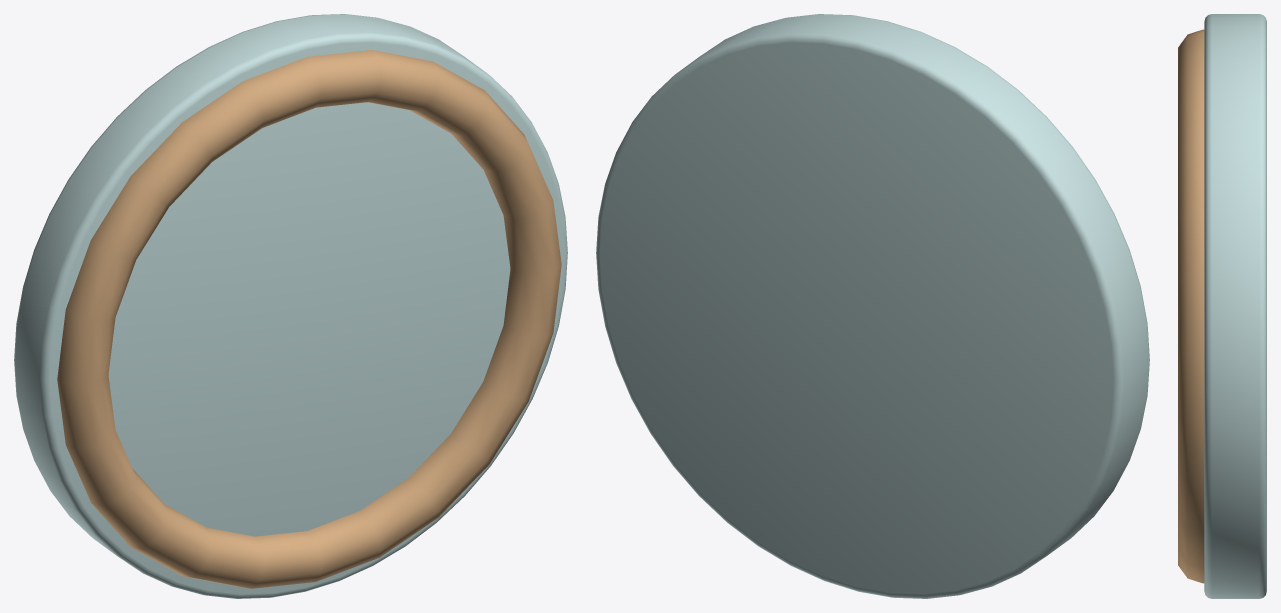
File: mirror-round.glb
The picture shows the model from 3 angles, left to right: view 1: azimuth 30°, elevation 25°; view 2: azimuth 150°, elevation 25°; view 3: azimuth 270°, elevation 25°; orthographic projection. The views are drawn at different scales.
Visible parts, largest first — view 1: mirror, frame.007; view 2: mirror; view 3: mirror, frame.007.
Part boxes in pixels (x1,y1,x2,y2): mirror: [14, 14, 567, 598]; frame.007: [57, 50, 561, 588]; mirror: [596, 14, 1149, 598]; mirror: [1204, 14, 1266, 598]; frame.007: [1178, 29, 1204, 583].
Size of the model in its own units: 0.75 by 0.75 by 0.1137.
